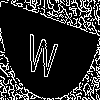W: (25, 24, 59, 80)
